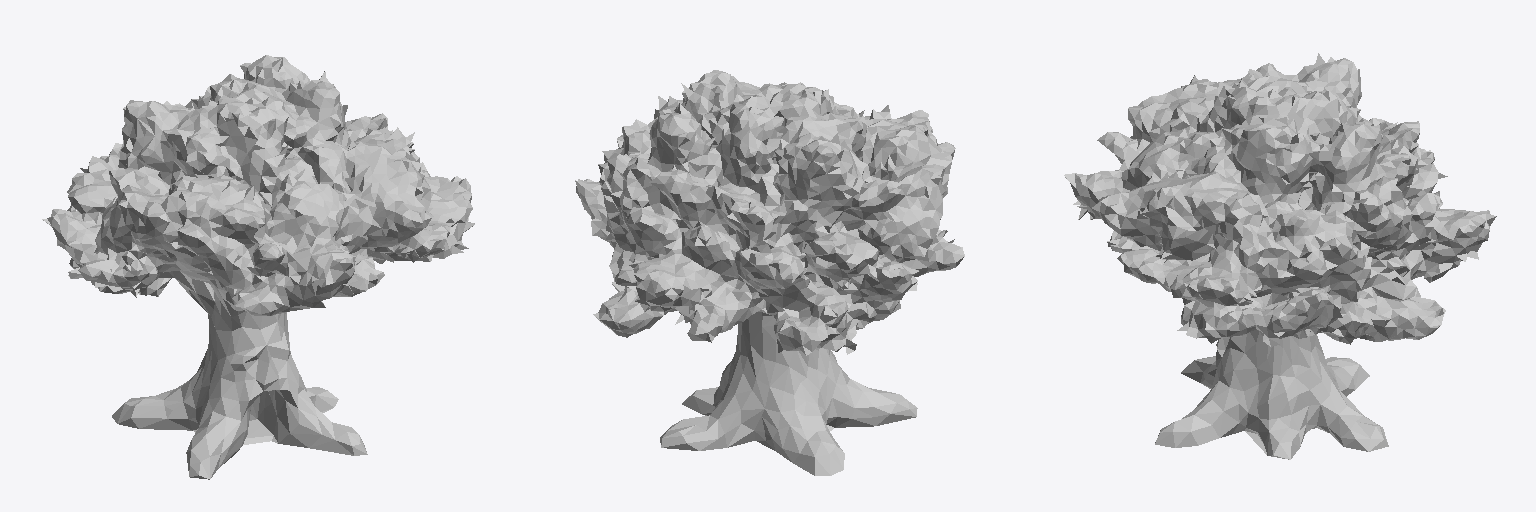
Rendered from Great_Deku_Tree_1123110835_texture.obj.
The picture shows the model from 3 angles: view 1: azimuth 30°, elevation 25°; view 2: azimuth 150°, elevation 25°; view 3: azimuth 270°, elevation 25°; orthographic projection.
Visible parts, largest first — view 1: Great_Deku_Tree_[number redacted]_texture; view 2: Great_Deku_Tree_[number redacted]_texture; view 3: Great_Deku_Tree_[number redacted]_texture.
Boxes of the visible parts, <box> form: Great_Deku_Tree_[number redacted]_texture: <box>42,55,474,479</box>; Great_Deku_Tree_[number redacted]_texture: <box>575,70,964,475</box>; Great_Deku_Tree_[number redacted]_texture: <box>1064,53,1496,459</box>.
Size of the model in its own units: 11.9 by 10 by 11.92.